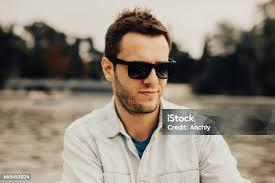sunglasses: (122, 59, 181, 85)
